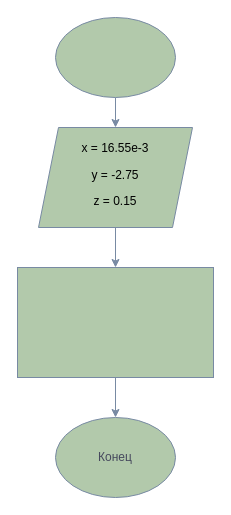
This 231x515 diagram has some shape labels left out. Here are the shapes that lost their labels. From the top down, the centre of each, then its label:
At point 115,57: "Начало".
At point 115,322: "b = sqrt(10 * (cbrt (x) + pow(x, y+2))) * (asin²z - |x-y|)".
